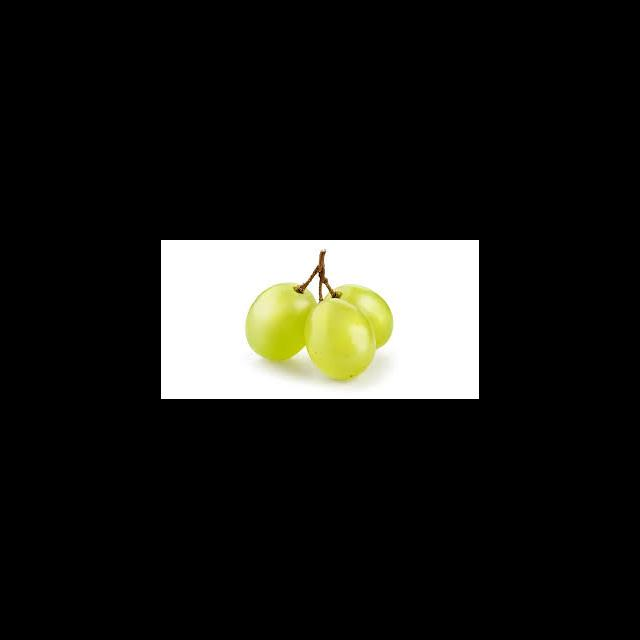grape: (244, 282, 317, 361)
